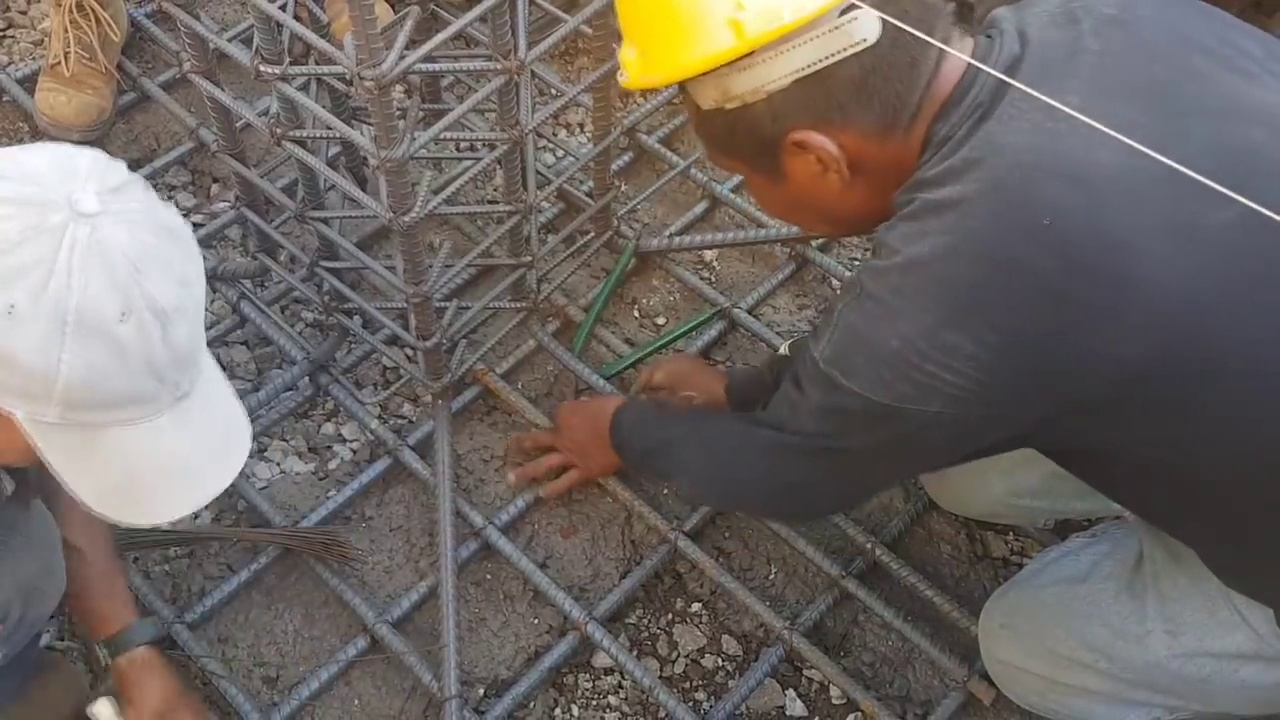helmet: (616, 1, 852, 87)
helmet-off: (0, 141, 254, 542)
helmet-on: (629, 0, 1005, 255)
person: (508, 0, 1280, 712), (0, 138, 283, 720)
